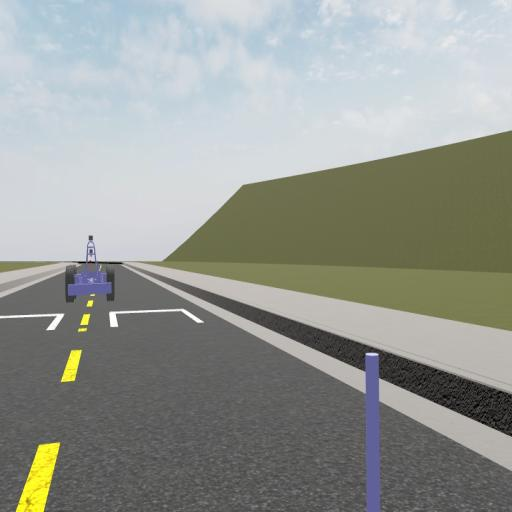ERP-42: (65, 234, 115, 302)
